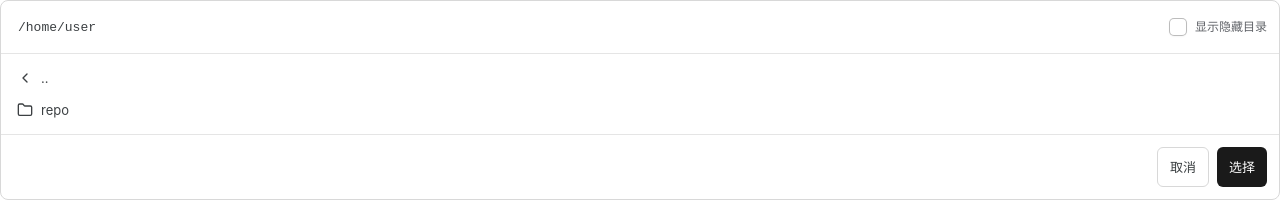
Test: DeviceFolderPicker › opens the only fuzzy path match when Enter is pressed
The width and height of the screenshot is (1280, 217).
Replace the text in the field with test id "device-folder-path-input" with "/home/user/re". click: (585, 27)
box: [13,9,1157,45]
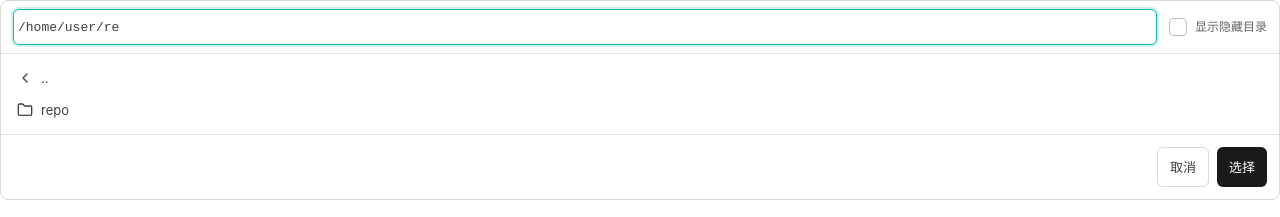
Press Enter in the field with test id "device-folder-path-input", box [13,9,1157,45]
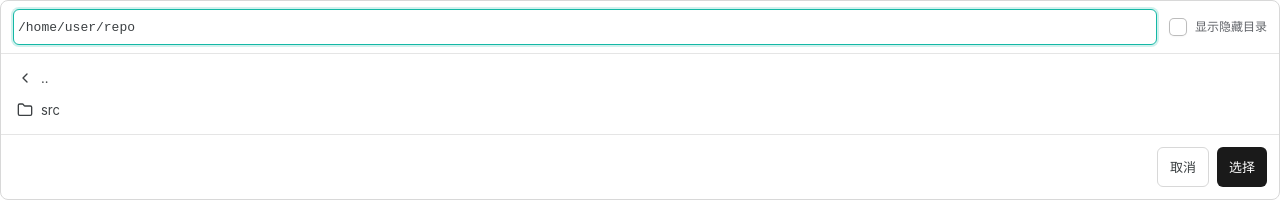
Expected: the field with test id "device-folder-path-input" holds "/home/user/repo", [13,9,1157,45]
Expected: the text "src" is shown, [41,102,60,118]
